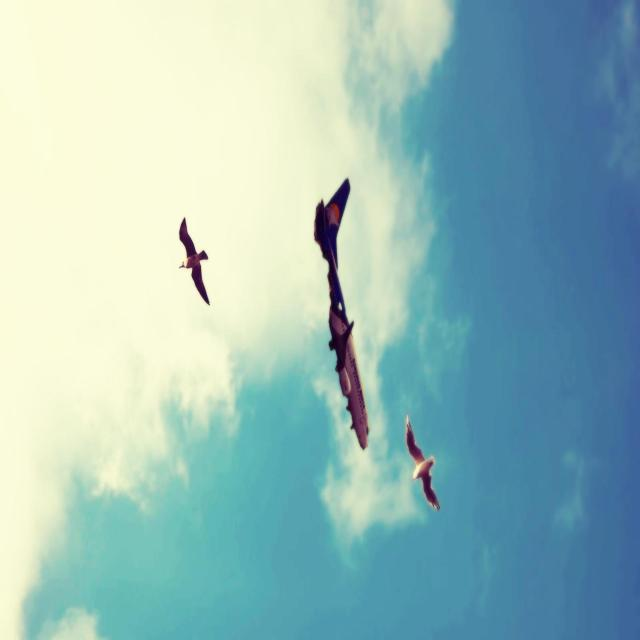airplane: (313, 176, 370, 450)
